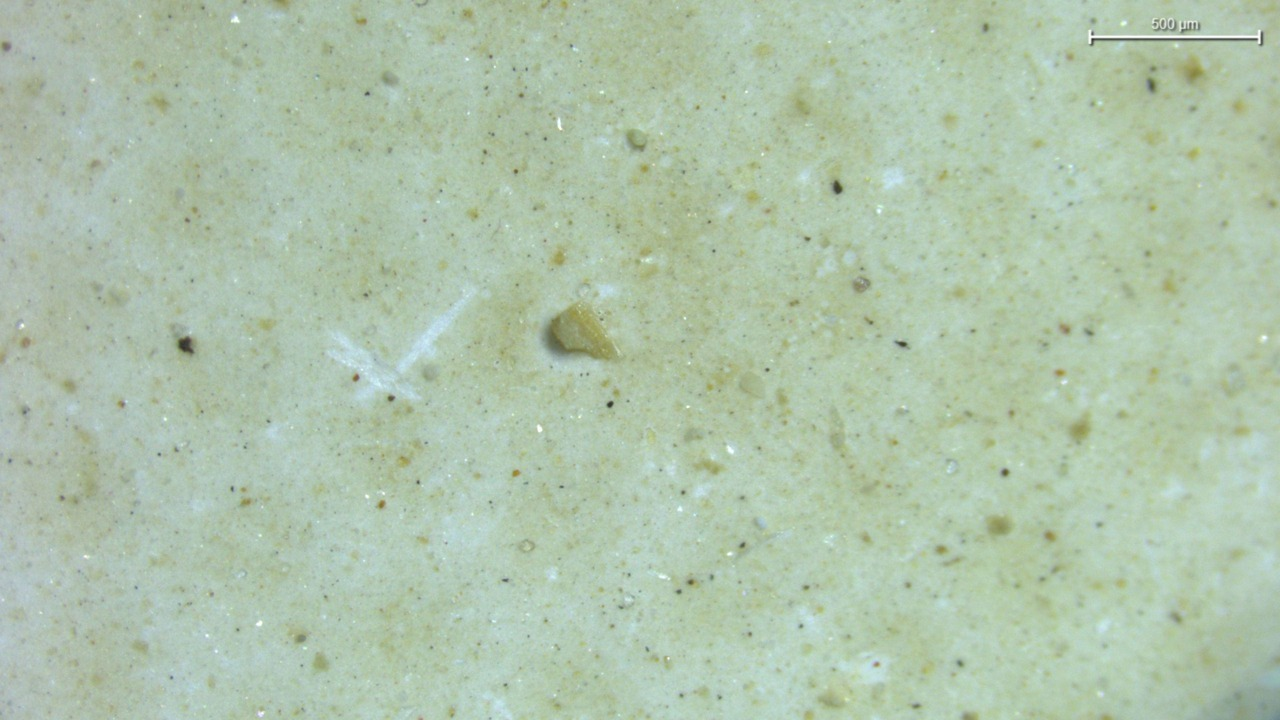microplastic_fragment: (550, 301, 620, 359)
